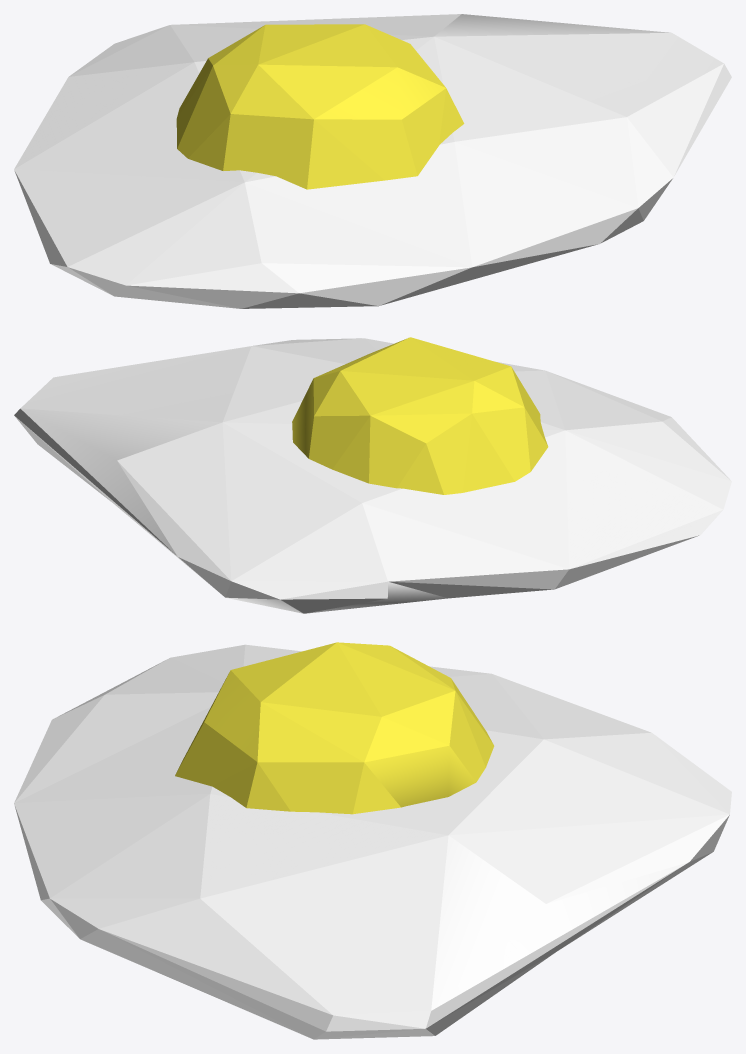
Rendered from Egg_01.fbx.
3 views of the same model, one above another, from view 1: azimuth 30°, elevation 25°; view 2: azimuth 150°, elevation 25°; view 3: azimuth 270°, elevation 25° (orthographic). The views are drawn at different scales.
Visible parts, largest first — view 1: Egg_01; view 2: Egg_01; view 3: Egg_01.
Part boxes in pixels (x1=…): Egg_01: x1=14, y1=14, x2=731, y2=308; Egg_01: x1=14, y1=337, x2=731, y2=613; Egg_01: x1=14, y1=642, x2=731, y2=1039.
Bounding box in the file's own units: 14 × 2.74 × 11.23.
